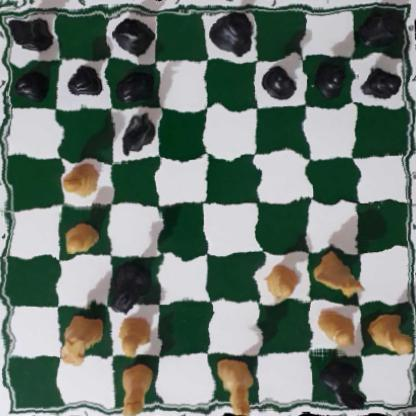black-bishop: (315, 357, 367, 410), (113, 18, 156, 55)
black-king: (207, 8, 256, 56)
black-knight: (119, 109, 160, 156)
black-pawn: (357, 63, 398, 103), (117, 66, 154, 104), (65, 63, 105, 98), (14, 67, 50, 102), (262, 63, 299, 97), (312, 59, 344, 94)
black-queen: (110, 258, 155, 316)
black-rook: (354, 10, 410, 56), (1, 12, 55, 54)
white-bishop: (118, 361, 160, 416), (62, 160, 104, 195)
white-knight: (315, 253, 372, 295)
white-pawn: (313, 306, 357, 352), (370, 309, 413, 352), (114, 312, 154, 356), (264, 259, 298, 302), (62, 221, 102, 257)
white-queen: (210, 357, 257, 416)
white-rook: (58, 309, 105, 365)
